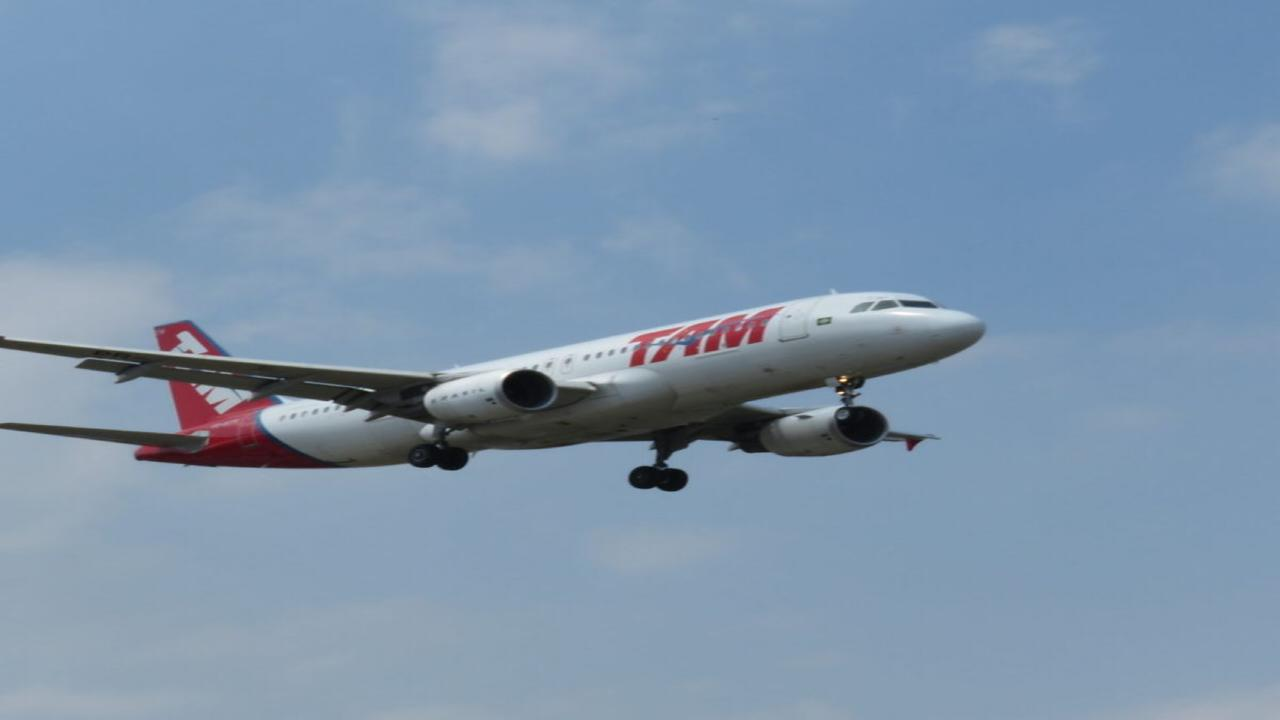Airplane: (0, 282, 1027, 504)
